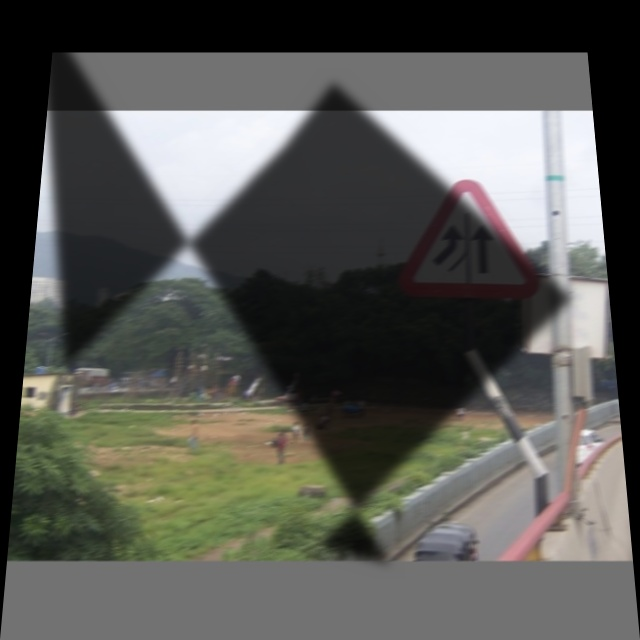Merge_Traffic_Ahead: (400, 177, 542, 304)
